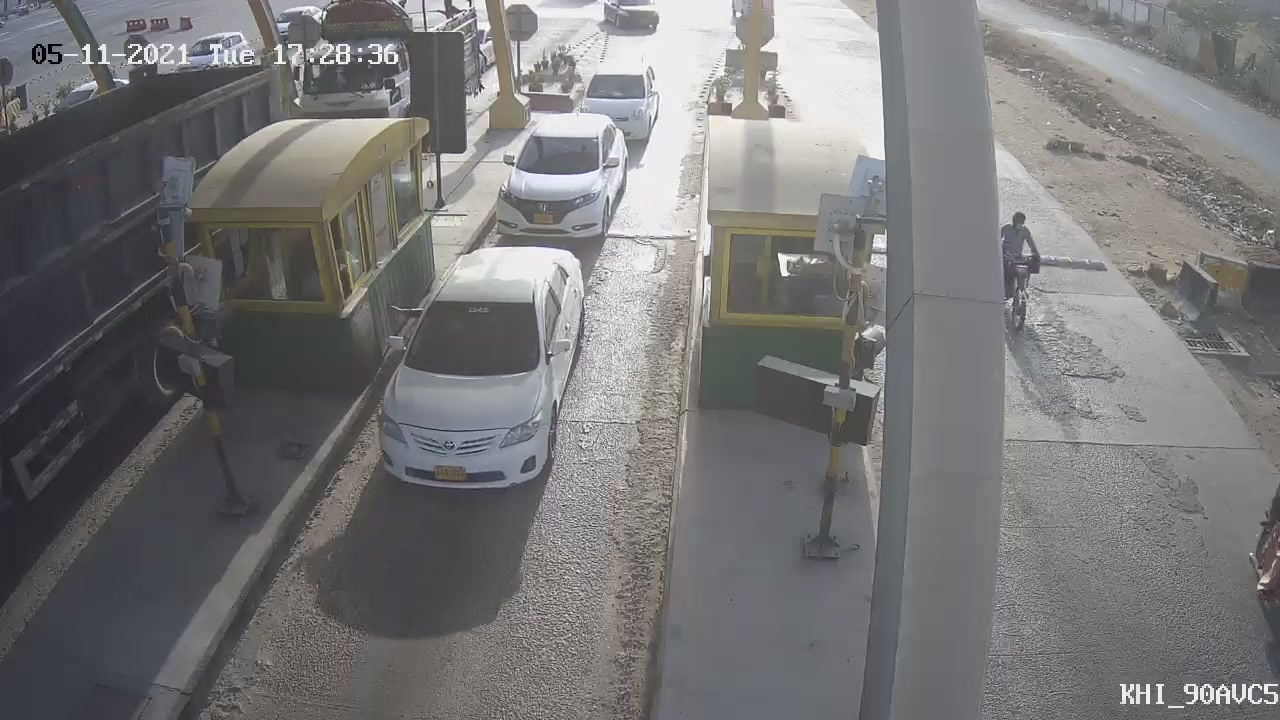F1: (348, 227, 605, 514), (476, 97, 642, 256)
